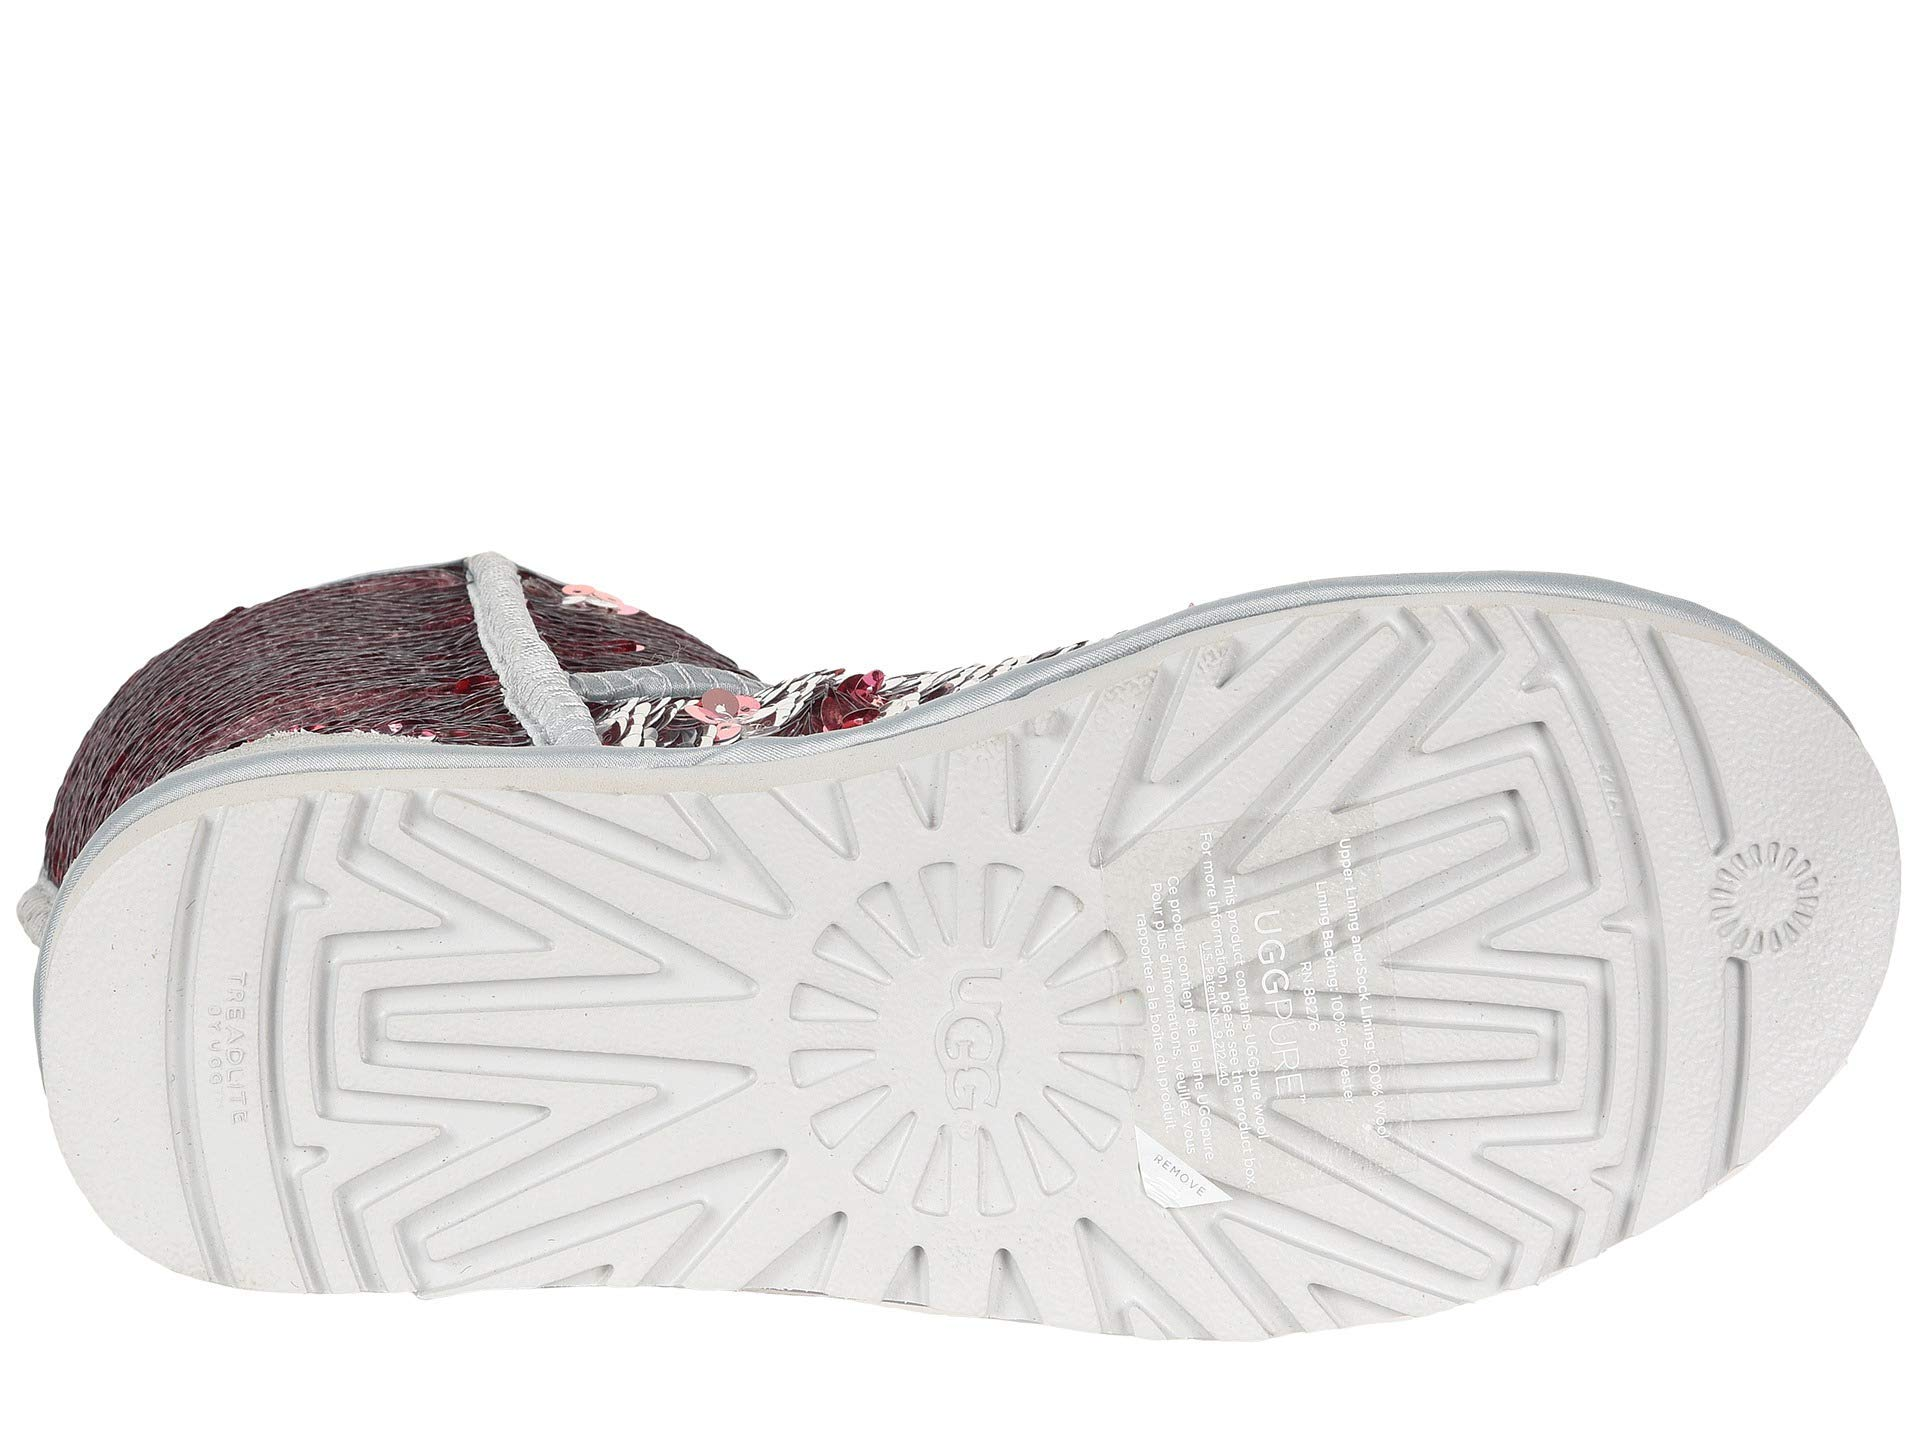chevron: (336, 793, 766, 1314)
circle: (782, 862, 1126, 1218), (1692, 820, 1832, 974)
exclude: (1113, 793, 1383, 1212)
line: (1692, 820, 1832, 974)
text: (782, 862, 1126, 1218), (184, 918, 265, 1153)
triangle: (782, 862, 1126, 1218), (1692, 820, 1832, 974)
